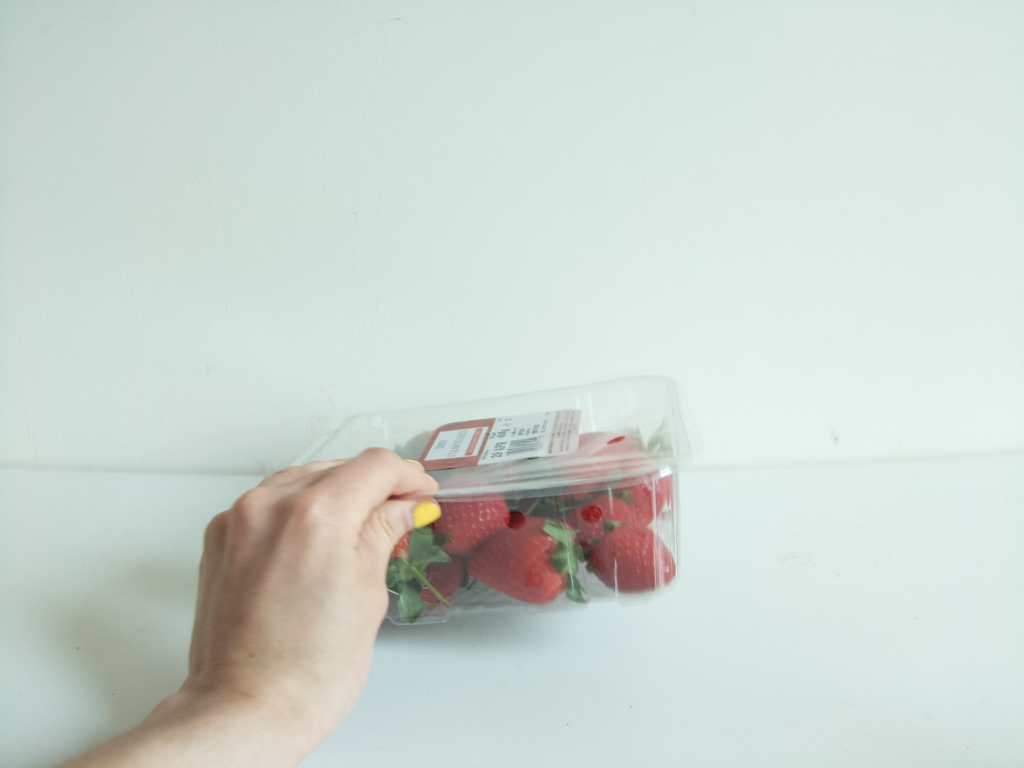soft-fruit: (296, 375, 684, 633)
